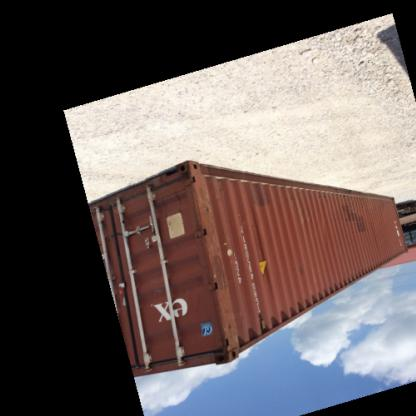Damage: (194, 181, 244, 354), (158, 192, 186, 216)
